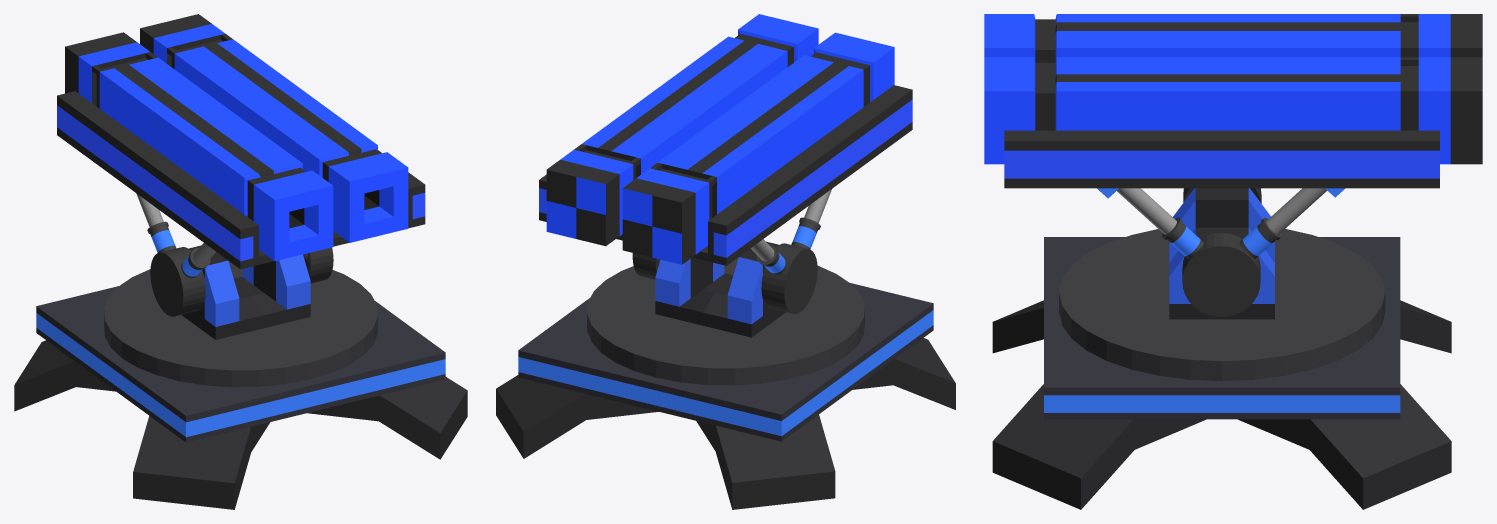
File: Terran_Missile_Pod.fbx
3 views of the same model, side by side, from view 1: azimuth 30°, elevation 25°; view 2: azimuth 150°, elevation 25°; view 3: azimuth 270°, elevation 25° (orthographic). The views are drawn at different scales.
Visible parts, largest first — view 1: Launchers, Platform, RotatingPart, Legs, Launcher Platform, Main, Hydraulics; view 2: Launchers, Platform, RotatingPart, Legs, Launcher Platform, Main, Hydraulics; view 3: Launchers, RotatingPart, Legs, Launcher Platform, Platform, Hydraulics, Main.
Part boxes in pixels (x1=…): Launchers: x1=65, y1=14, x2=408, y2=260; Platform: x1=36, y1=286, x2=445, y2=442; RotatingPart: x1=104, y1=261, x2=377, y2=387; Legs: x1=14, y1=340, x2=467, y2=509; Launcher Platform: x1=57, y1=91, x2=425, y2=269; Main: x1=182, y1=245, x2=310, y2=339; Hydraulics: x1=136, y1=193, x2=333, y2=316; Launchers: x1=546, y1=14, x2=894, y2=264; Platform: x1=518, y1=283, x2=933, y2=441; RotatingPart: x1=587, y1=257, x2=864, y2=385; Legs: x1=496, y1=338, x2=955, y2=509; Launcher Platform: x1=539, y1=85, x2=912, y2=265; Main: x1=655, y1=241, x2=785, y2=337; Hydraulics: x1=632, y1=189, x2=831, y2=314; Launchers: x1=984, y1=14, x2=1482, y2=164; RotatingPart: x1=1059, y1=229, x2=1385, y2=381; Legs: x1=992, y1=300, x2=1451, y2=509; Launcher Platform: x1=1004, y1=130, x2=1439, y2=188; Platform: x1=1044, y1=237, x2=1400, y2=419; Hydraulics: x1=1097, y1=188, x2=1345, y2=316; Main: x1=1169, y1=188, x2=1274, y2=319.
Bounding box in the file's own units: 184 × 159 × 199.
